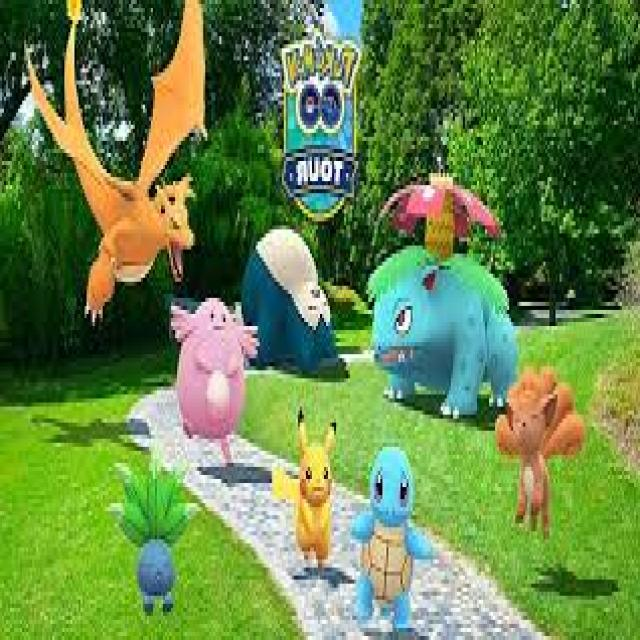Chansey: (172, 300, 253, 448)
Charizard: (78, 123, 197, 321)
Eevee: (507, 378, 561, 534)
Oddish: (128, 476, 185, 621)
Pikachu: (292, 426, 336, 569)
Snorlax: (241, 227, 335, 376)
Squirtle: (358, 445, 420, 624)
Venusaur: (371, 173, 503, 404)
